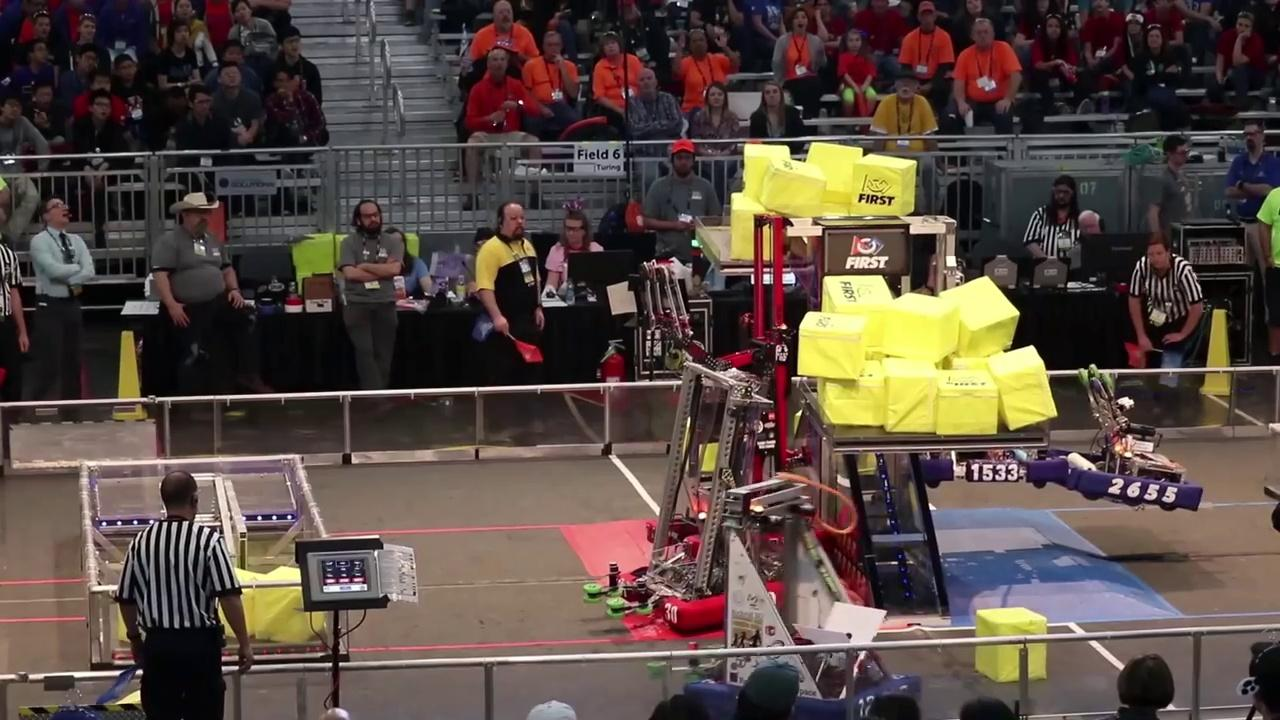robot: (662, 480, 920, 720), (601, 364, 787, 632), (1050, 367, 1203, 511)
